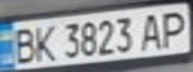2: (93, 16, 121, 56)
3: (112, 14, 139, 54), (57, 19, 81, 60)
8: (78, 17, 100, 57)
A: (136, 9, 169, 51)
B: (6, 25, 39, 65)
K: (30, 21, 57, 63)
P: (157, 7, 193, 48)
